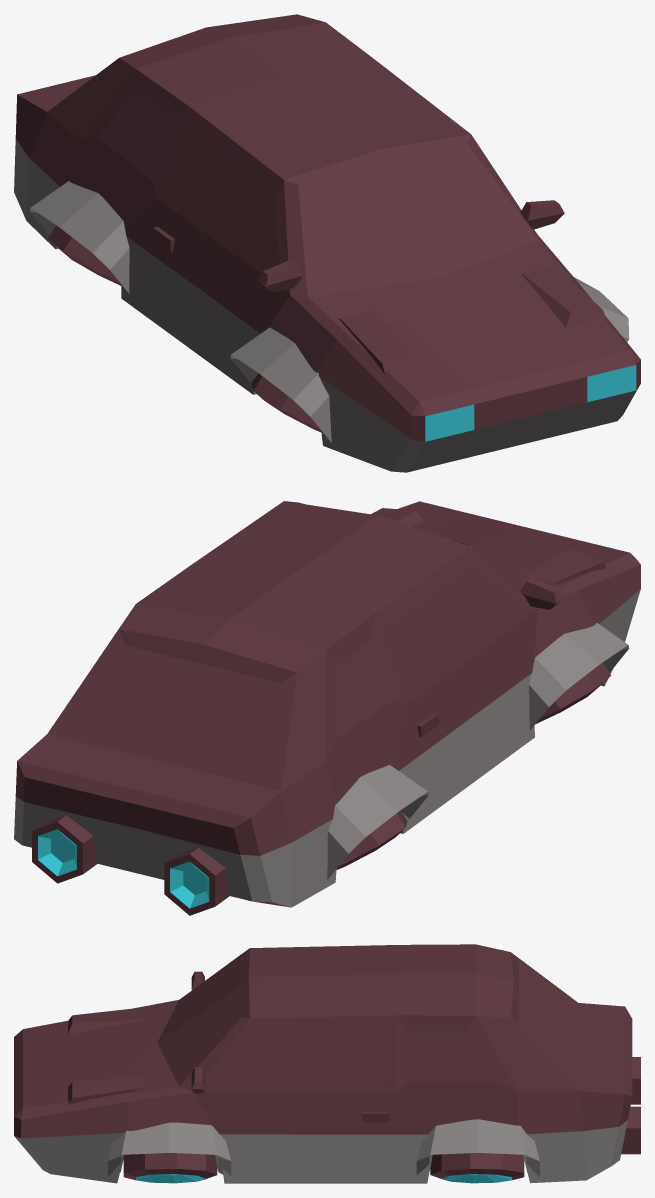
Rendered from scifi-car-hoover.fbx.
3 views of the same model, one above another, from view 1: azimuth 30°, elevation 25°; view 2: azimuth 150°, elevation 25°; view 3: azimuth 270°, elevation 25° (orthographic). The views are drawn at different scales.
Parts seen in each view (by area): view 1: scifi-car-hoover; view 2: scifi-car-hoover; view 3: scifi-car-hoover.
Part boxes in pixels (x1,y1,x2,y2): scifi-car-hoover: [14, 14, 640, 472]; scifi-car-hoover: [14, 501, 640, 915]; scifi-car-hoover: [14, 944, 640, 1183].
Bounding box in the file's own units: 2.26 × 1.47 × 4.65.
